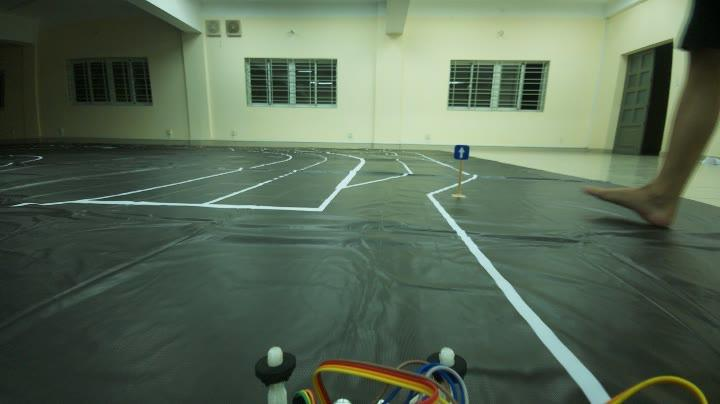onewayroad: (452, 139, 472, 169)
